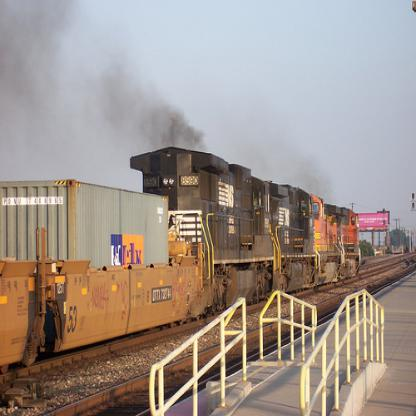train: (0, 146, 361, 367)
